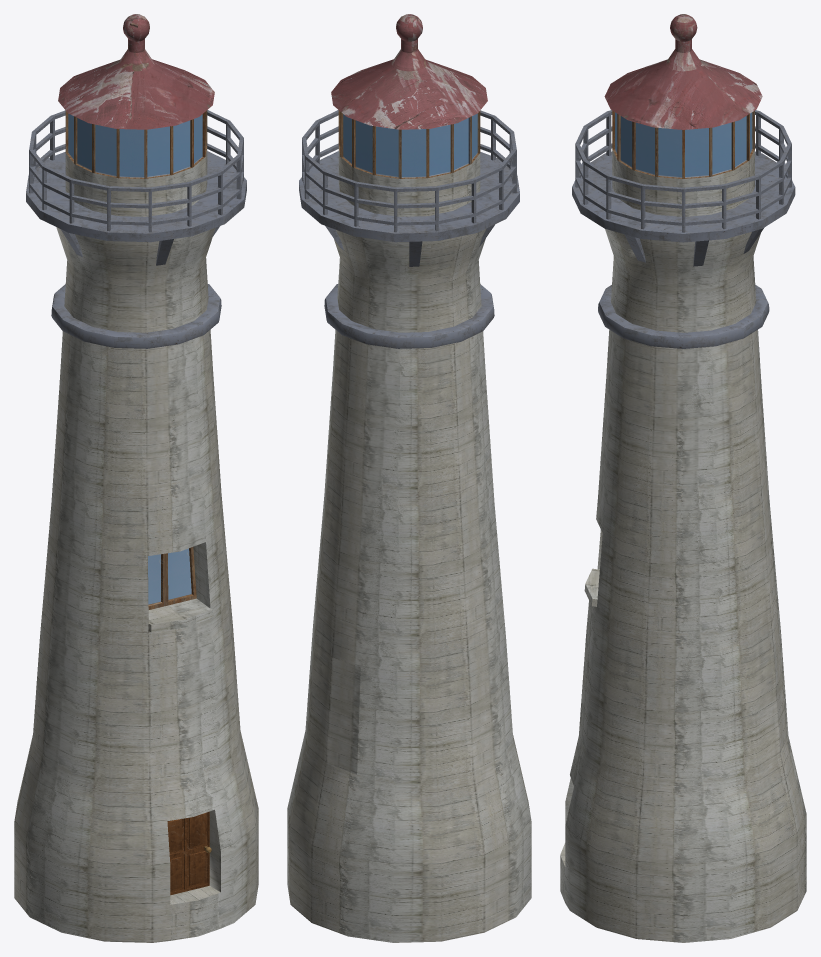
File: castle_bar_resaux.glb
3 renders of one model, left to right at view 1: azimuth 30°, elevation 25°; view 2: azimuth 150°, elevation 25°; view 3: azimuth 270°, elevation 25°, orthographic.
Visible parts, largest first — view 1: Lighthouse_Material #330_0, Lighthouse_Material #327_0, Lighthouse_Material #326_0, Lighthouse_Material #329_0, Lighthouse_Material #324_0, Lighthouse_Material #328_0; view 2: Lighthouse_Material #330_0, Lighthouse_Material #327_0, Lighthouse_Material #326_0, Lighthouse_Material #329_0, Lighthouse_Material #328_0; view 3: Lighthouse_Material #330_0, Lighthouse_Material #327_0, Lighthouse_Material #326_0, Lighthouse_Material #329_0, Lighthouse_Material #328_0.
Part boxes in pixels (x1=…): Lighthouse_Material #330_0: x1=14, y1=146, x2=258, y2=942; Lighthouse_Material #327_0: x1=26, y1=110, x2=246, y2=348; Lighthouse_Material #326_0: x1=58, y1=14, x2=214, y2=129; Lighthouse_Material #329_0: x1=68, y1=113, x2=202, y2=604; Lighthouse_Material #324_0: x1=167, y1=811, x2=209, y2=895; Lighthouse_Material #328_0: x1=65, y1=110, x2=207, y2=609; Lighthouse_Material #330_0: x1=287, y1=146, x2=531, y2=942; Lighthouse_Material #327_0: x1=299, y1=110, x2=519, y2=348; Lighthouse_Material #326_0: x1=331, y1=14, x2=487, y2=129; Lighthouse_Material #329_0: x1=343, y1=113, x2=477, y2=177; Lighthouse_Material #328_0: x1=338, y1=110, x2=480, y2=178; Lighthouse_Material #330_0: x1=560, y1=150, x2=806, y2=942; Lighthouse_Material #327_0: x1=572, y1=110, x2=795, y2=348; Lighthouse_Material #326_0: x1=604, y1=14, x2=762, y2=129; Lighthouse_Material #329_0: x1=615, y1=112, x2=752, y2=177; Lighthouse_Material #328_0: x1=612, y1=110, x2=754, y2=178.
Size of the model in its own units: 14.51 by 56.88 by 14.53.
7 materials, 7 textured.
